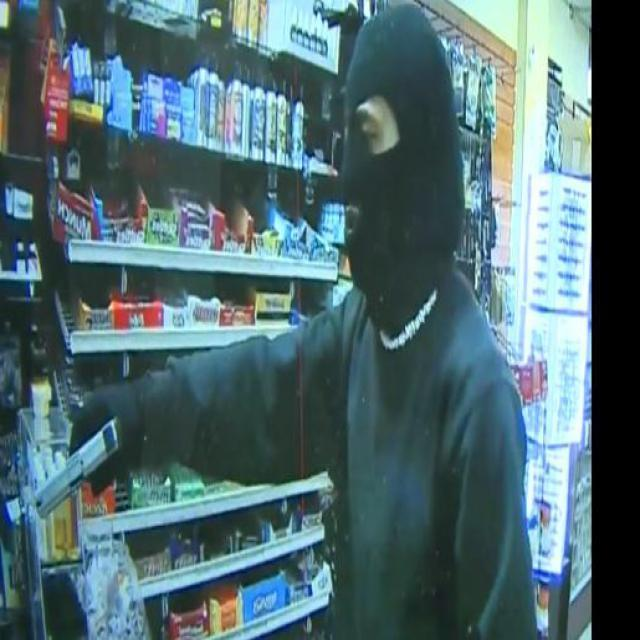Gun: (34, 379, 130, 516)
